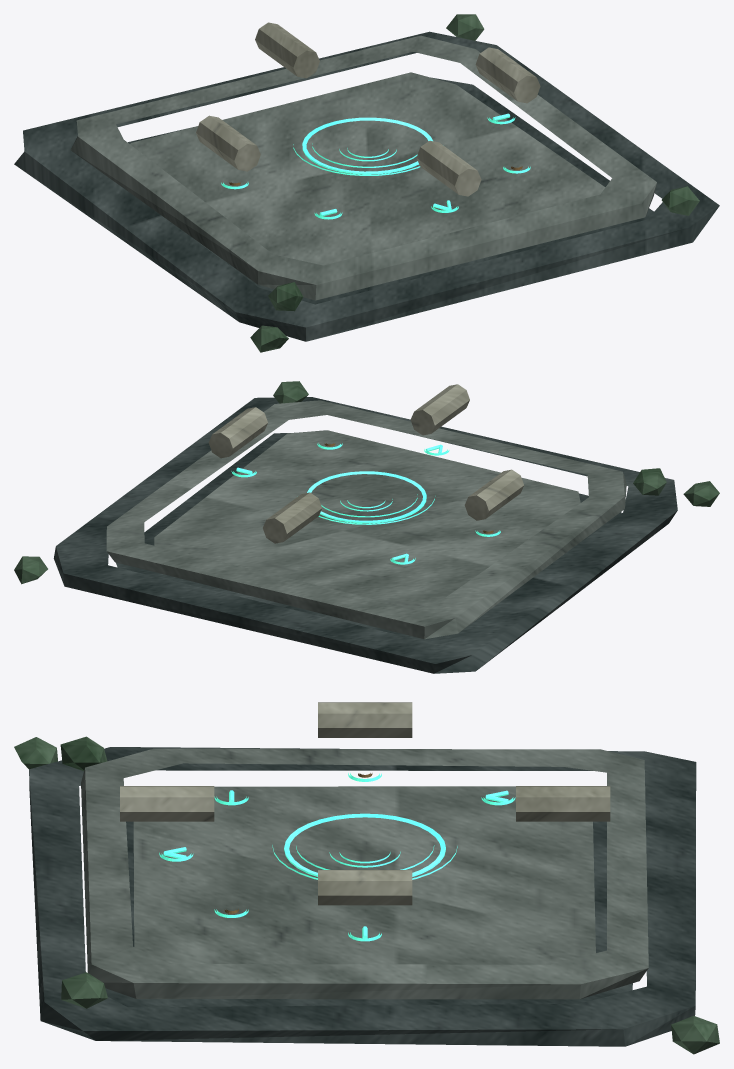
Rendered from 0561_rune_dais_11.glb.
3 renders of one model, top to bottom at view 1: azimuth 30°, elevation 25°; view 2: azimuth 150°, elevation 25°; view 3: azimuth 270°, elevation 25°, orthographic. The views are drawn at different scales.
Visible parts, largest first — view 1: stone, stone_dark, stone_light, moss, glow; view 2: stone, stone_dark, stone_light, moss, glow; view 3: stone, stone_dark, stone_light, moss, glow.
Part boxes in pixels (x1,y1,x2,y2): stone: [70, 35, 656, 300]; stone_dark: [14, 31, 719, 341]; stone_light: [196, 22, 540, 196]; moss: [250, 14, 699, 352]; glow: [221, 113, 530, 219]; stone: [106, 400, 626, 639]; stone_dark: [53, 397, 677, 673]; stone_light: [208, 384, 524, 543]; moss: [14, 381, 719, 584]; glow: [231, 443, 500, 564]; stone: [81, 748, 648, 999]; stone_dark: [29, 747, 696, 1046]; stone_light: [120, 702, 610, 905]; moss: [14, 736, 719, 1054]; glow: [159, 773, 515, 941].
Bounding box in the file's own units: 3.7 × 0.7212 × 3.74.
Materials: 6 (6 with a texture image).
